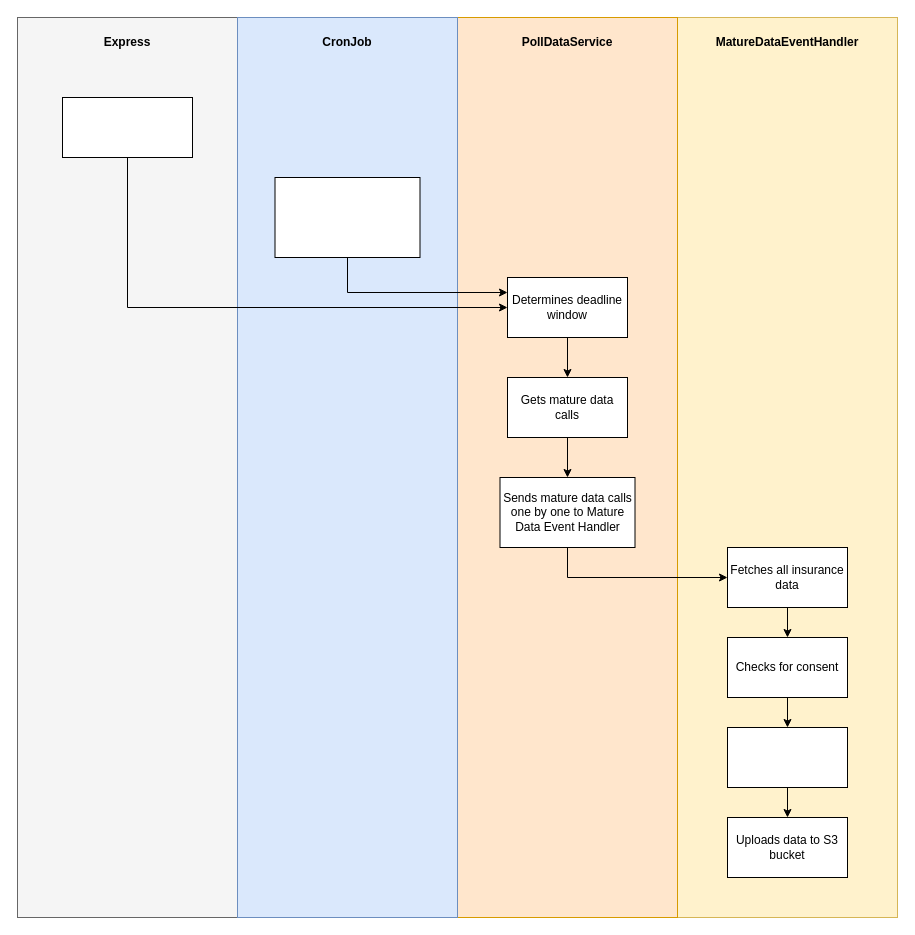
Image size: 915x935. Some labels were removed from this diagram. The centre of each missing label's shape, as x and y in pixels:
"CronJob handler triggers data processing on specified interval of time." goes at (x=347, y=217).
"Endpoint triggers data processing manually." goes at (x=127, y=127).
"Transforms data" goes at (x=787, y=757).
